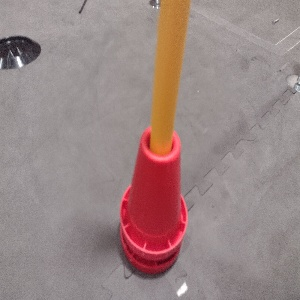Red_2: (118, 124, 187, 275)
